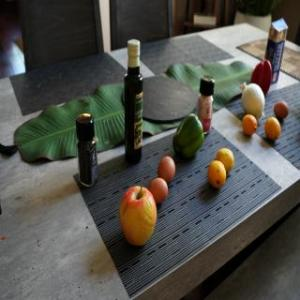bell_pepper: (172, 113, 206, 160), (248, 60, 270, 96)
egg: (146, 177, 168, 205), (158, 157, 174, 183), (272, 100, 290, 120)
onion: (239, 81, 267, 121)
